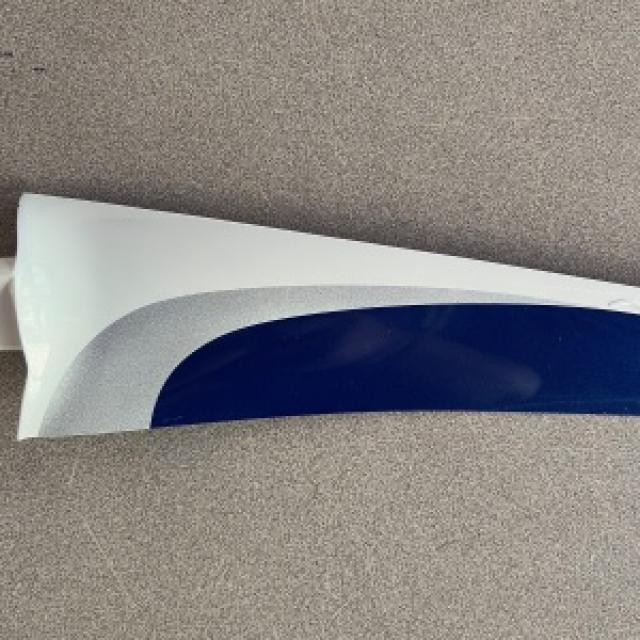healthy: (13, 192, 638, 435)
